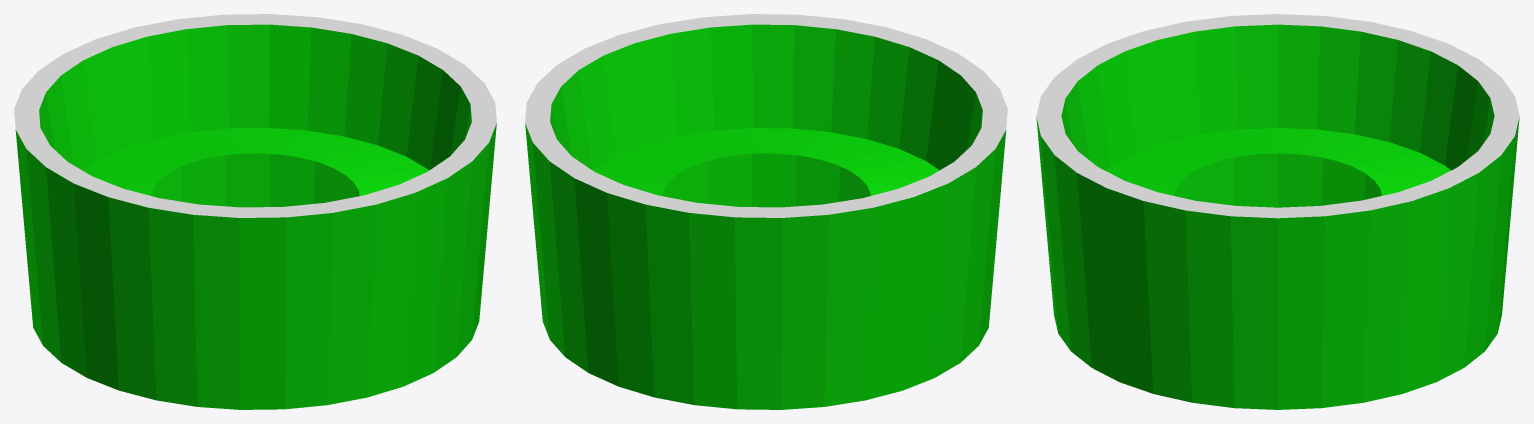
The model's file is beeds.fbx.
The picture shows the model from 3 angles, left to right: view 1: azimuth 30°, elevation 25°; view 2: azimuth 150°, elevation 25°; view 3: azimuth 270°, elevation 25°; orthographic projection.
Visible parts, largest first — view 1: Cylinder.031; view 2: Cylinder.031; view 3: Cylinder.031.
Part boxes in pixels (box(x1,y1,x2,y2)): Cylinder.031: box(14, 14, 496, 409); Cylinder.031: box(525, 14, 1007, 409); Cylinder.031: box(1036, 14, 1519, 409).
Size of the model in its own units: 135 by 61.23 by 135.
